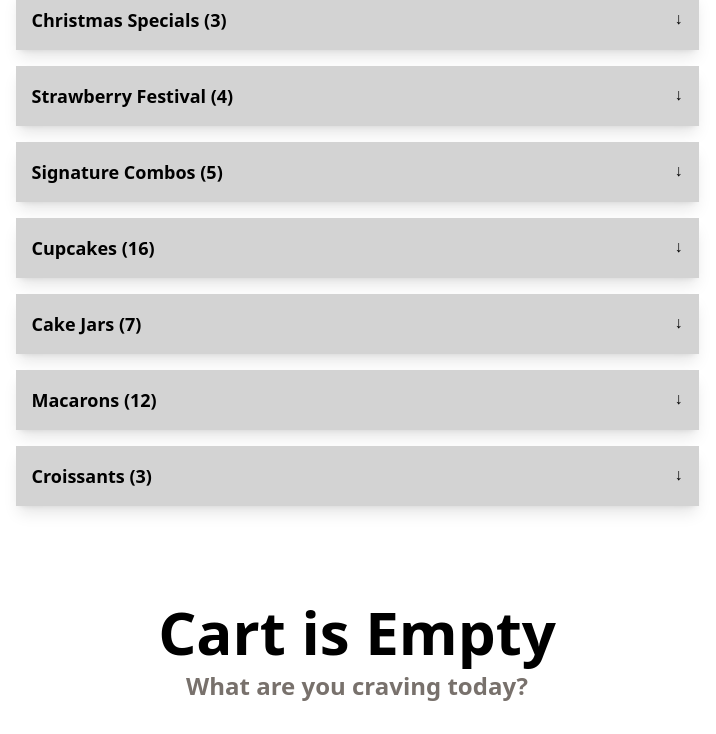
Test: Should load RestrauntMenu component
(page scrolled)
What coordinates should you click on to do the following:
click the text "Croissants (3)"
I would click on:
 (92, 476)
Its box is [32,462,152,490].
(page scrolled)
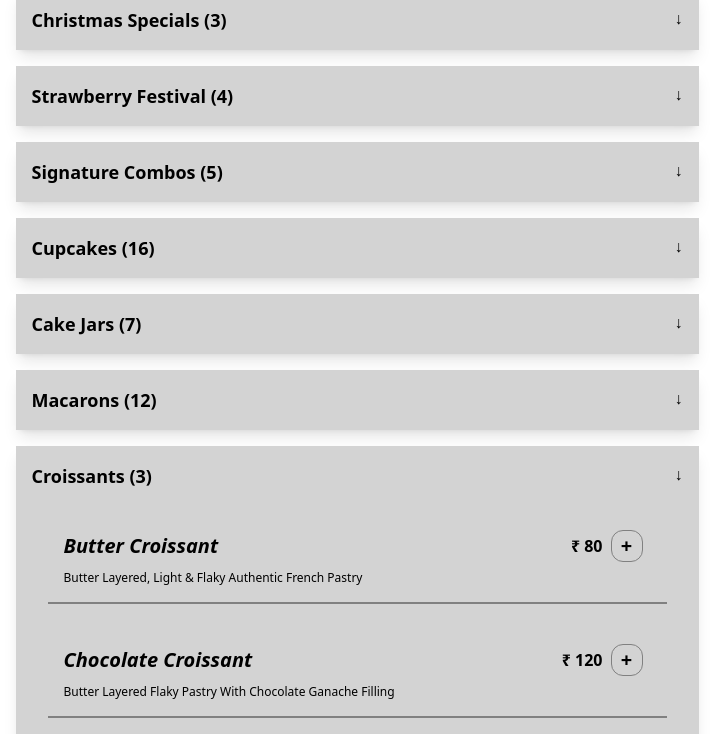
What coordinates should you click on to do the following:
click the button "+" next to "80"
I would click on:
 (626, 546)
Its box is [610,530,642,562].
(page scrolled)
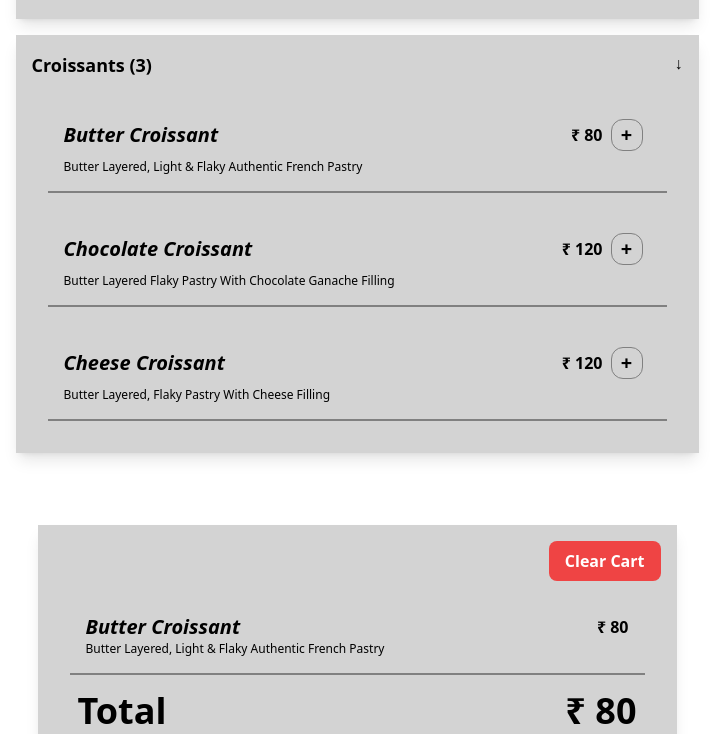
What coordinates should you click on to do the following:
click the button "+" in the row of "Cheese Croissant"
I would click on:
 (626, 362)
Its box is [610,346,642,378].
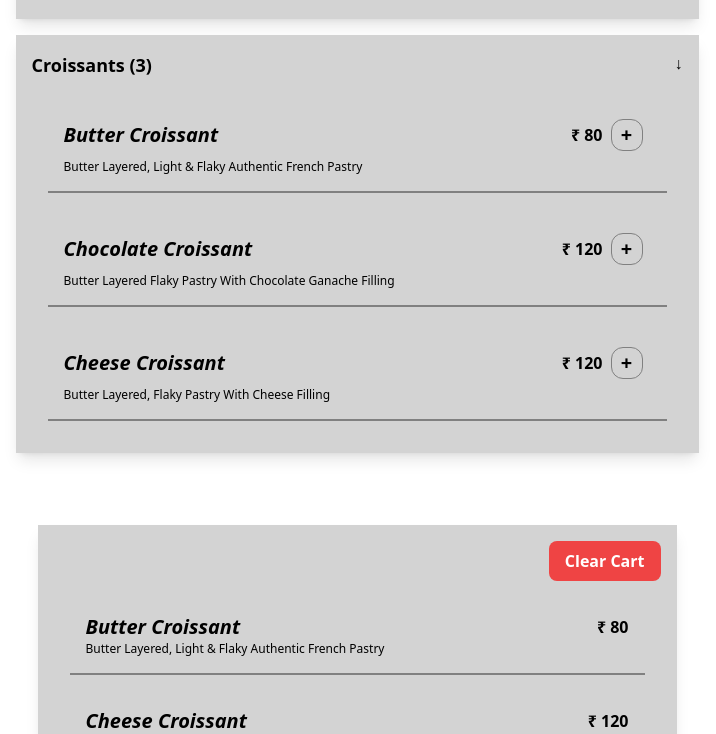
# after clearing the cart:
What coordinates should you click on to do the following:
click the button "Clear Cart"
I would click on:
 (605, 560)
Its box is [549,540,660,580].
(page scrolled)
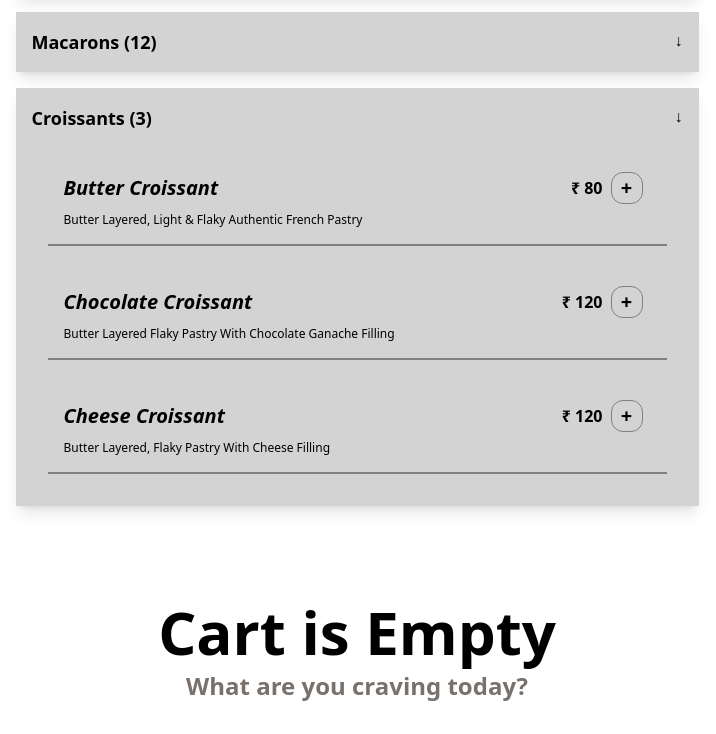
Check: the number of list items with test id "dish" is 3, box [48,148,666,246]; [48,262,666,360]; [48,376,666,474]
Check: the heading "Cart is Empty" is shown, box [158,590,556,672]
Check: the heading "What are you craving today?" is shown, box [186,668,528,702]
